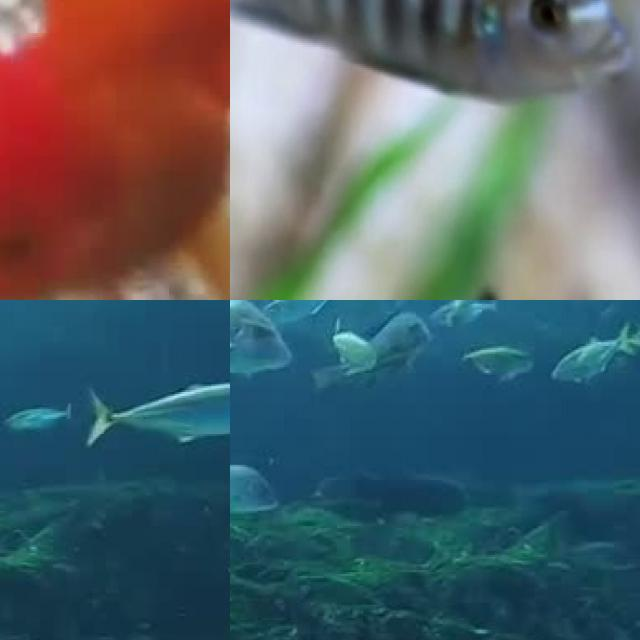fish: (0, 0, 230, 300), (230, 300, 294, 374)
